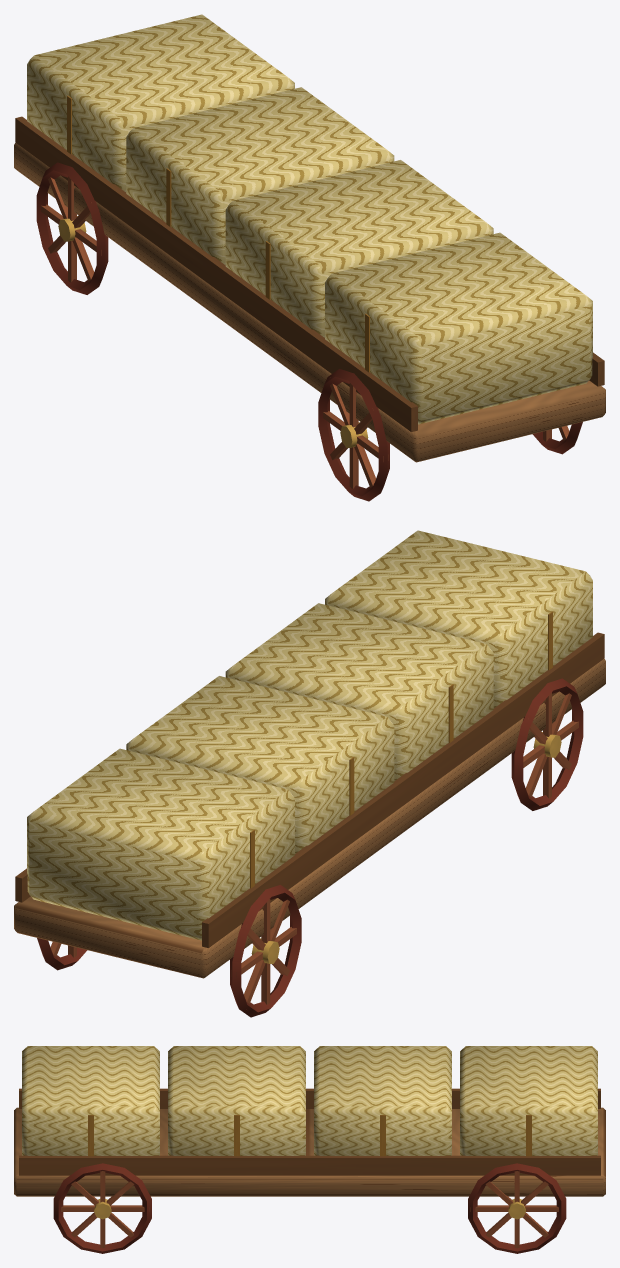
The model's file is prop_cart.glb.
3 views of the same model, one above another, from view 1: azimuth 30°, elevation 25°; view 2: azimuth 150°, elevation 25°; view 3: azimuth 270°, elevation 25° (orthographic). The views are drawn at different scales.
Visible parts, largest first — view 1: prop_cart, wheel_front_L, wheel_rear_L, wheel_front_R; view 2: prop_cart, wheel_rear_L, wheel_front_L, wheel_rear_R; view 3: prop_cart, wheel_front_R, wheel_rear_R.
Boxes of the visible parts, x1=… form: prop_cart: x1=14, y1=14, x2=605, y2=462; wheel_front_L: x1=318, y1=369, x2=389, y2=501; wheel_rear_L: x1=36, y1=162, x2=108, y2=294; wheel_front_R: x1=532, y1=422, x2=582, y2=454; prop_cart: x1=14, y1=530, x2=605, y2=978; wheel_rear_L: x1=230, y1=885, x2=301, y2=1017; wheel_front_L: x1=511, y1=678, x2=583, y2=810; wheel_rear_R: x1=37, y1=938, x2=87, y2=970; prop_cart: x1=14, y1=1046, x2=605, y2=1196; wheel_front_R: x1=53, y1=1163, x2=151, y2=1253; wheel_rear_R: x1=468, y1=1163, x2=566, y2=1253.
Bounding box in the file's own units: 1.8 × 1.6 × 6.
Materials: 1 (1 with a texture image).
